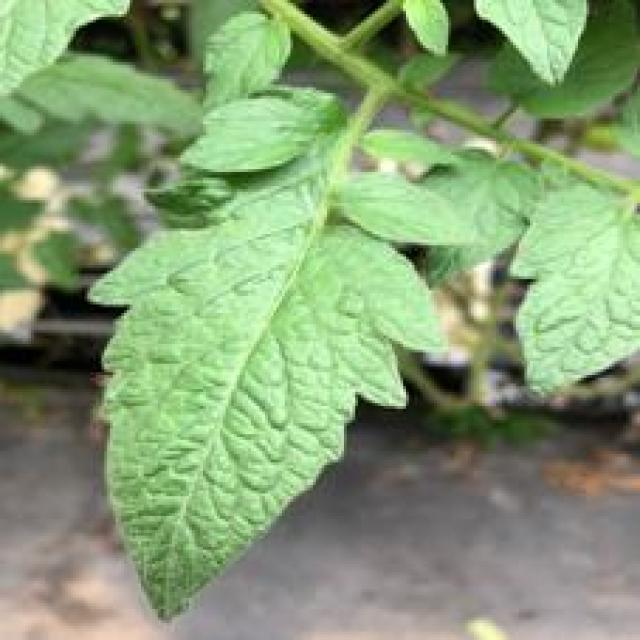Healthy Leaf: (85, 168, 482, 620), (507, 184, 640, 398), (184, 100, 330, 172)
